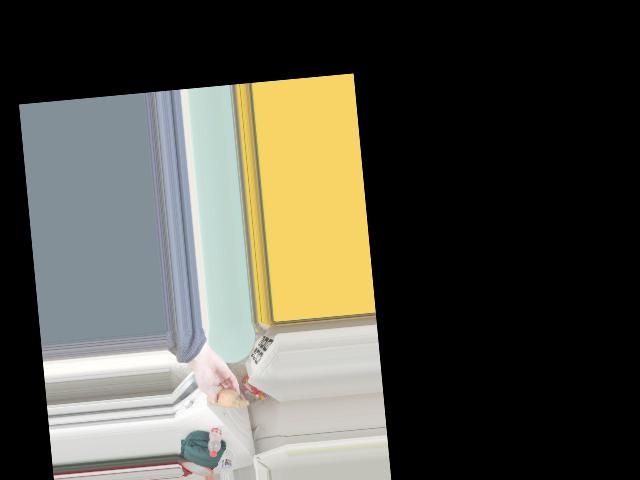sweet_potato: (208, 389, 241, 410)
